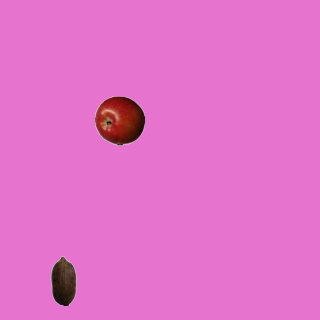Apple Braeburn: (94, 95, 144, 145)
Nut Pecan: (38, 255, 88, 305)
